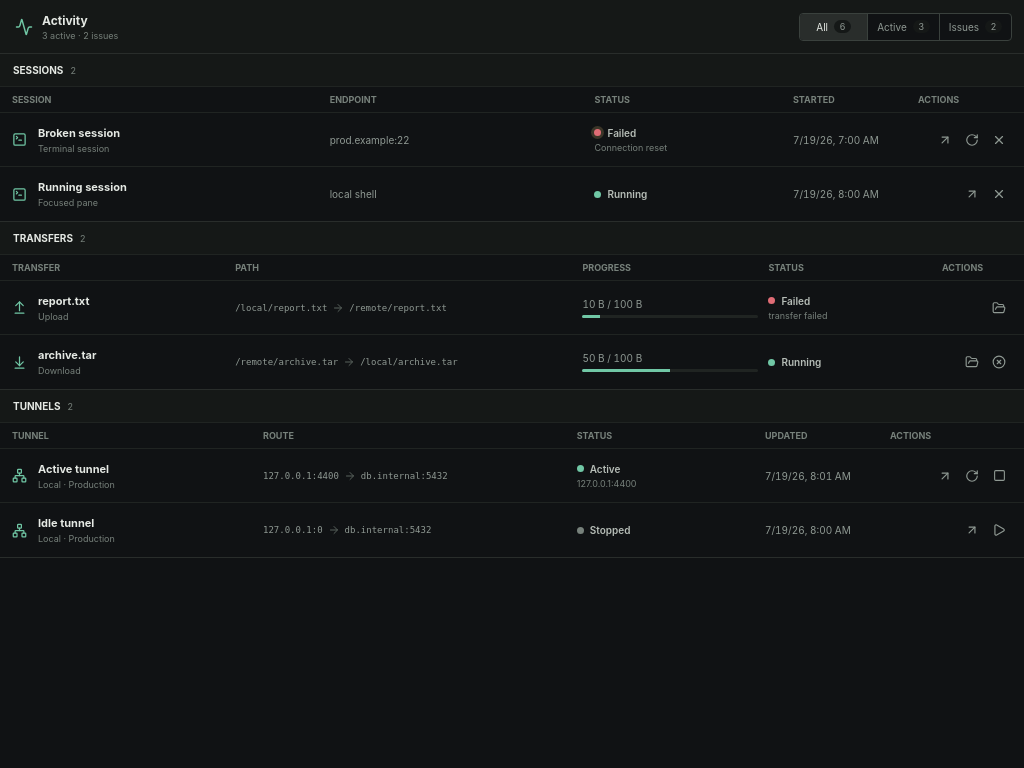
Test case: ActivityWorkspace › keeps backend action failures visible and dismissible
Click the button named "Cancel archive.tar" at (999, 362), box left=986, top=349, right=1012, bottom=375
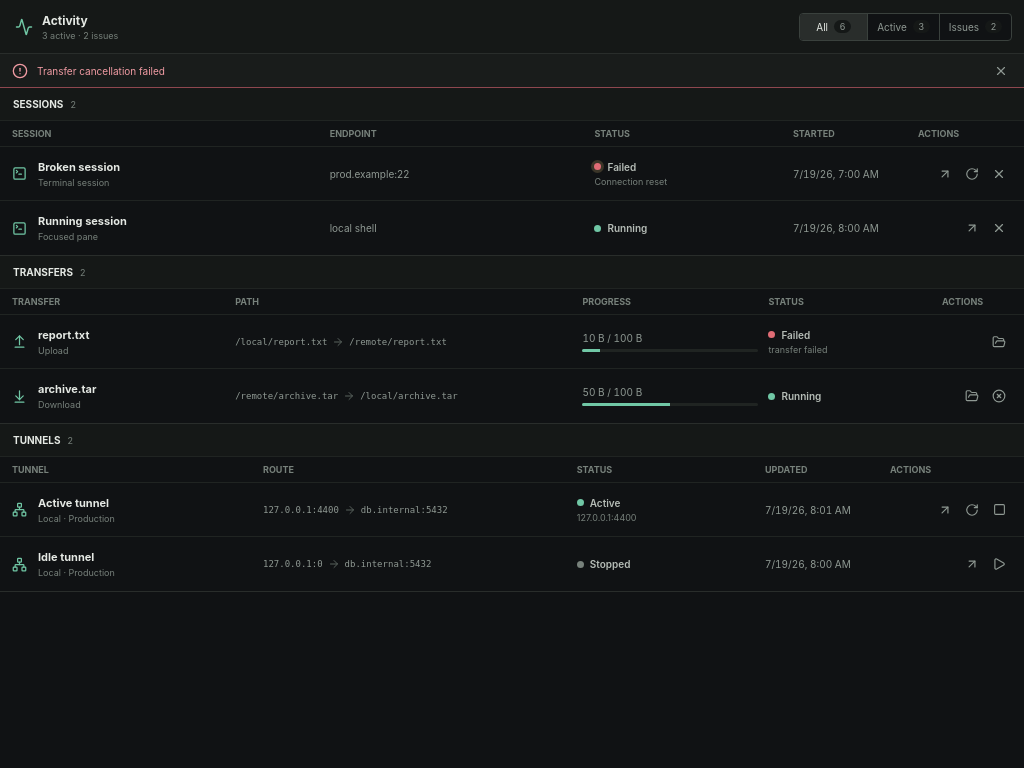
Expected: the message reads "Transfer cancellation failed", left=37, top=64, right=165, bottom=76
Click the button named "Dismiss error" at (1001, 70), box left=988, top=58, right=1014, bottom=84
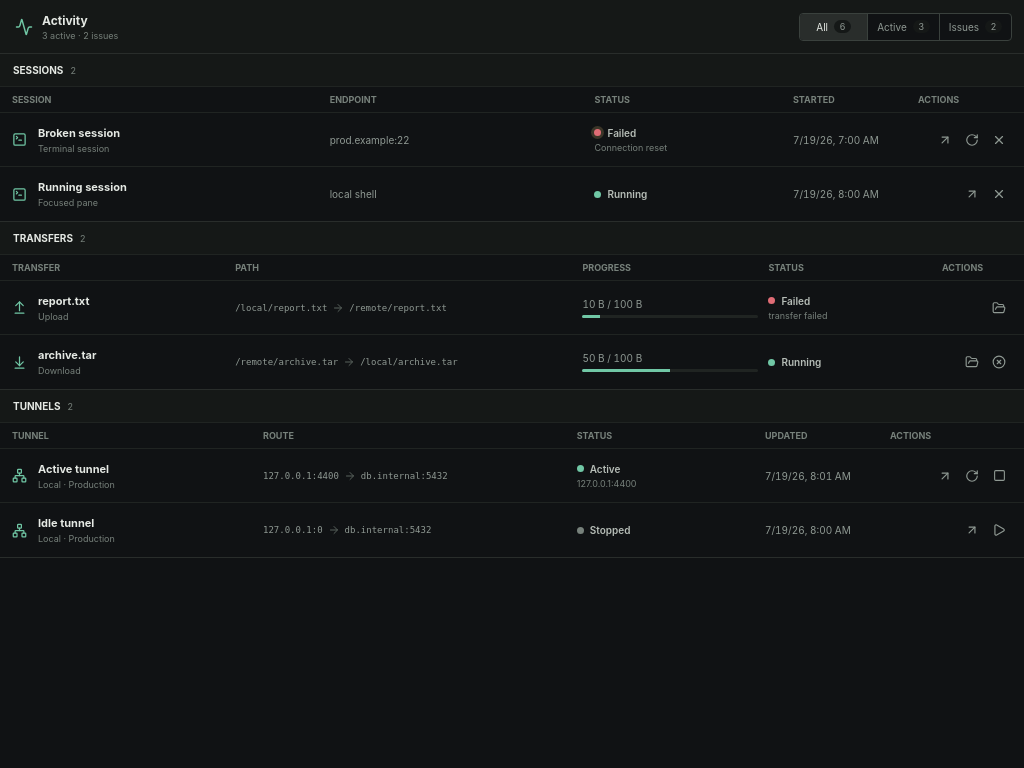
Expected: the message "Transfer cancellation failed" is gone
